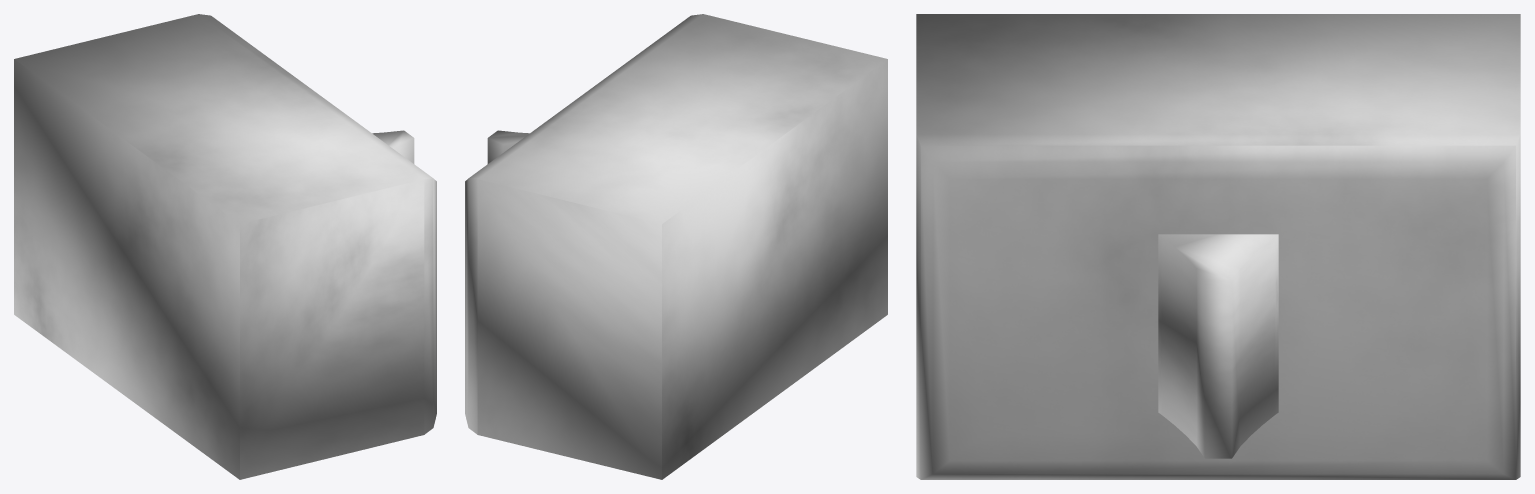
Rendered from LightSwitch.fbx.
3 views of the same model, side by side, from view 1: azimuth 30°, elevation 25°; view 2: azimuth 150°, elevation 25°; view 3: azimuth 270°, elevation 25° (orthographic). The views are drawn at different scales.
Parts seen in each view (by area): view 1: SwitchBack, Switch; view 2: SwitchBack, Switch; view 3: SwitchBack, Switch.
Boxes of the visible parts, box(x1,y1,x2,y2) form: SwitchBack: box(14, 14, 436, 479); Switch: box(372, 130, 414, 163); SwitchBack: box(465, 14, 887, 479); Switch: box(487, 130, 529, 163); SwitchBack: box(916, 14, 1520, 479); Switch: box(1158, 234, 1278, 458).
Size of the model in its own units: 19.14 by 16.58 by 26.51.
